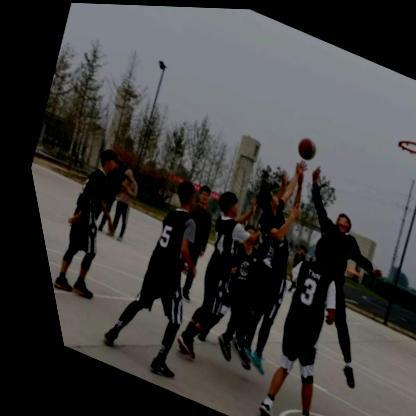basketball: (287, 132, 316, 161)
